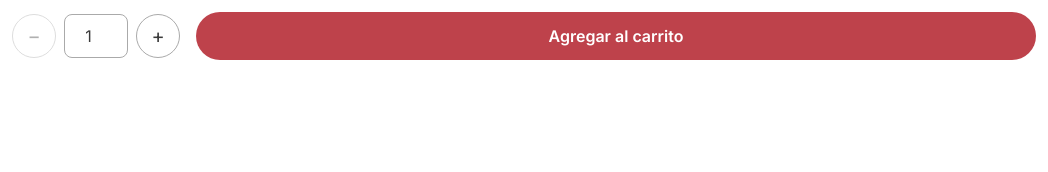
Test: AddToCart › creates the cart on first add, stores it in the PWA format and updates the count
The width and height of the screenshot is (1048, 172).
Click the button "Agregar al carrito".
click(616, 36)  # box [196, 12, 1036, 60]
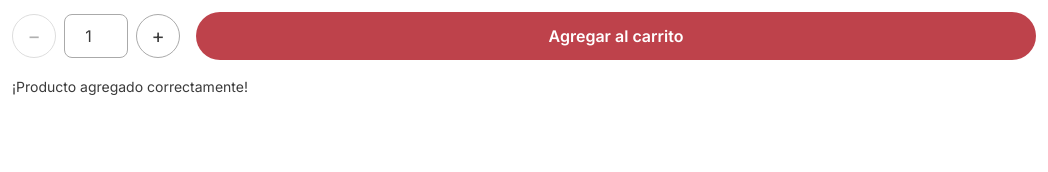
Expected: the message reads "¡Producto agregado correctamente!", [12, 78, 248, 95]
